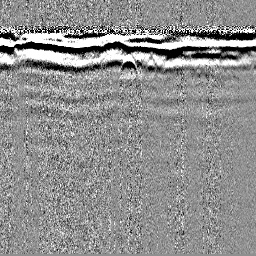cavity: (119, 51, 139, 75)
